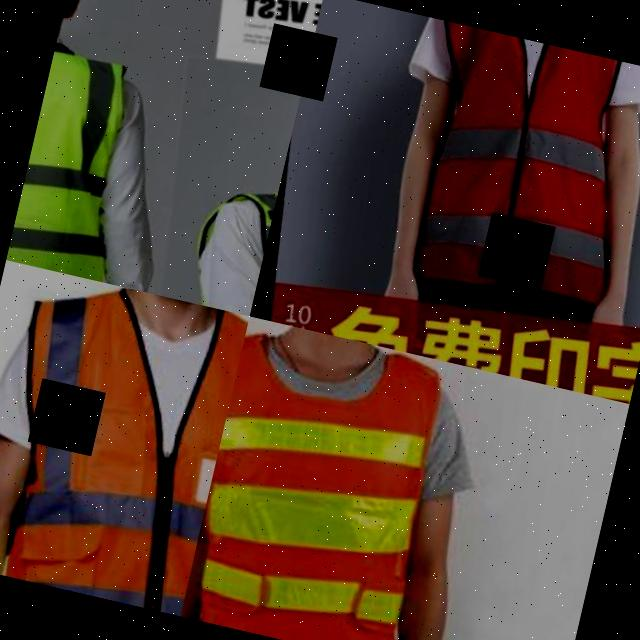vest: (180, 316, 482, 640), (0, 266, 249, 616), (361, 14, 640, 318), (5, 45, 152, 282)
